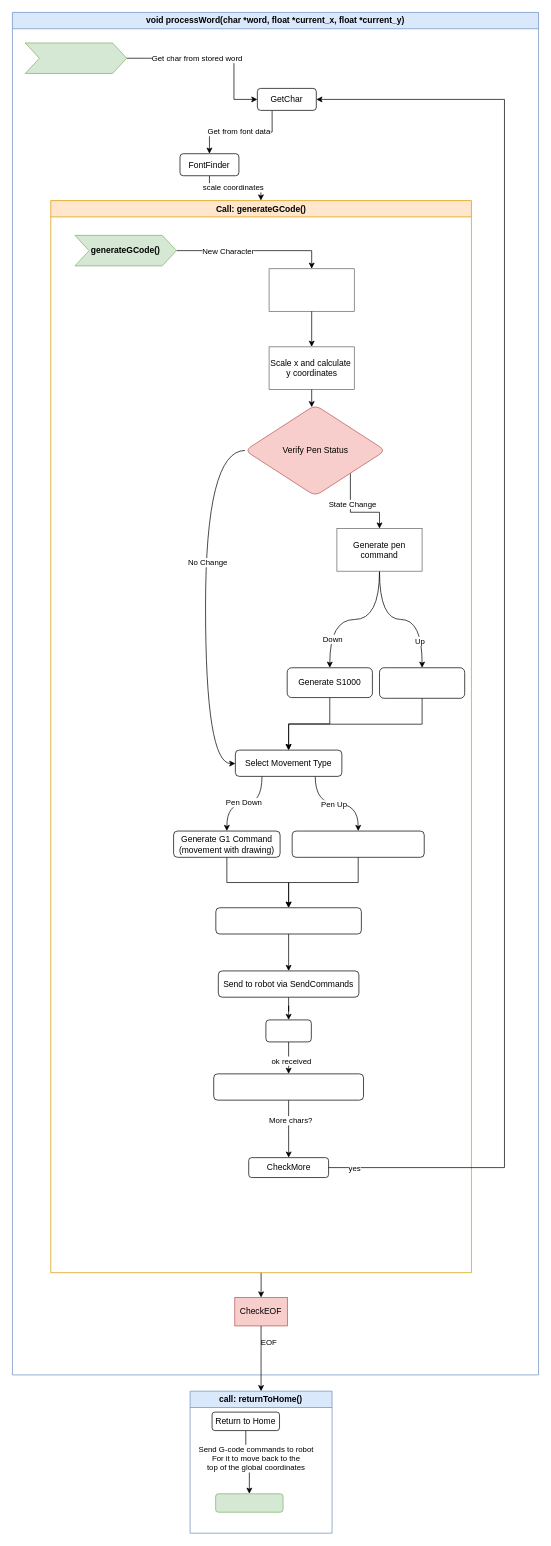
Image size: 551x1546. Some labels were removed from this diagram. Each missing label, with the centre of its shape:
Format Command with position Gx Xnew Ynew: (288,920)
Generate "S0": (422,682)
Generate G0 Command (movement without drawing): (357,843)
processWord(): (75,57)
Return 1: (249,1502)
Scale and calculate x coordinates: (311,289)
Update currnen y and x position: (288,1086)
WaitOK: (288,1030)
